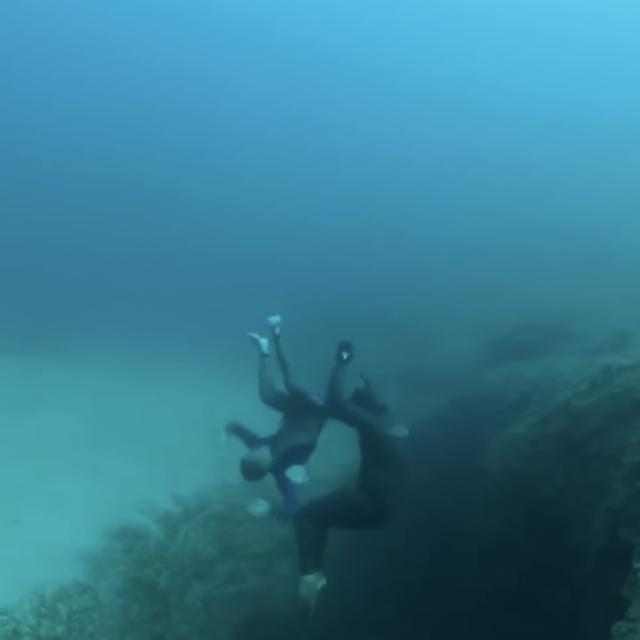human: (295, 339, 415, 629), (223, 312, 321, 512)
